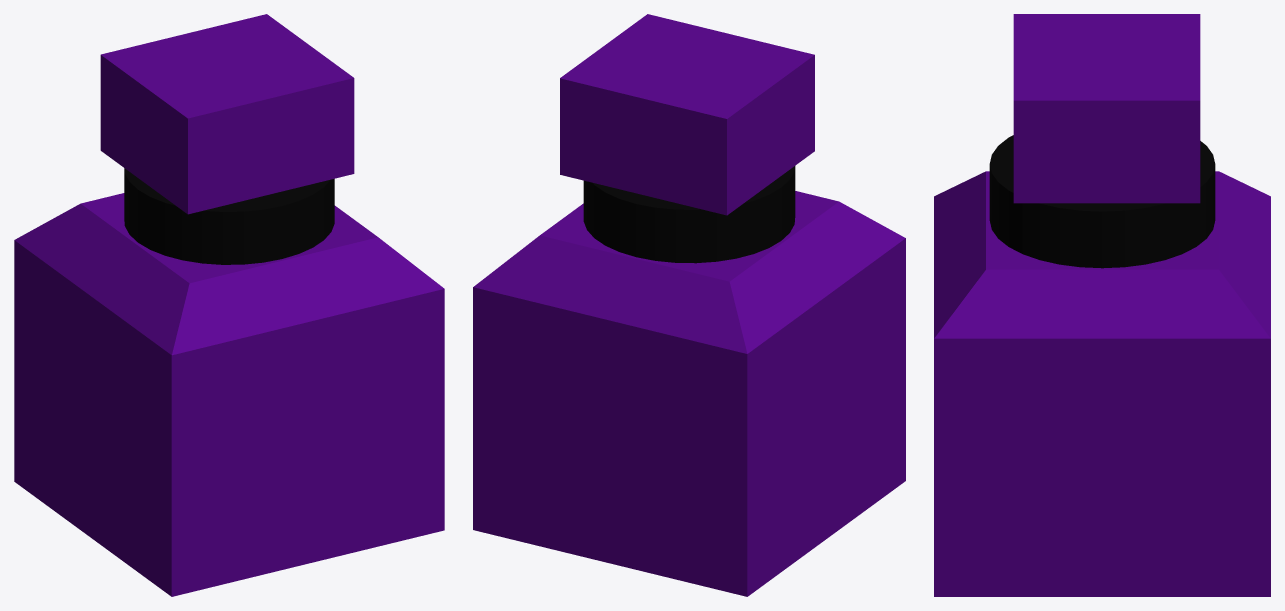
Rendered from protectiontower3.fbx.
3 renders of one model, left to right at view 1: azimuth 30°, elevation 25°; view 2: azimuth 150°, elevation 25°; view 3: azimuth 270°, elevation 25°, orthographic. The views are drawn at different scales.
Parts seen in each view (by area): view 1: Cube; view 2: Cube; view 3: Cube.
Boxes of the visible parts, x1=… form: Cube: x1=14, y1=14, x2=444, y2=596; Cube: x1=473, y1=14, x2=905, y2=596; Cube: x1=934, y1=14, x2=1270, y2=596.
Size of the model in its own units: 1915 by 2939 by 1915.
